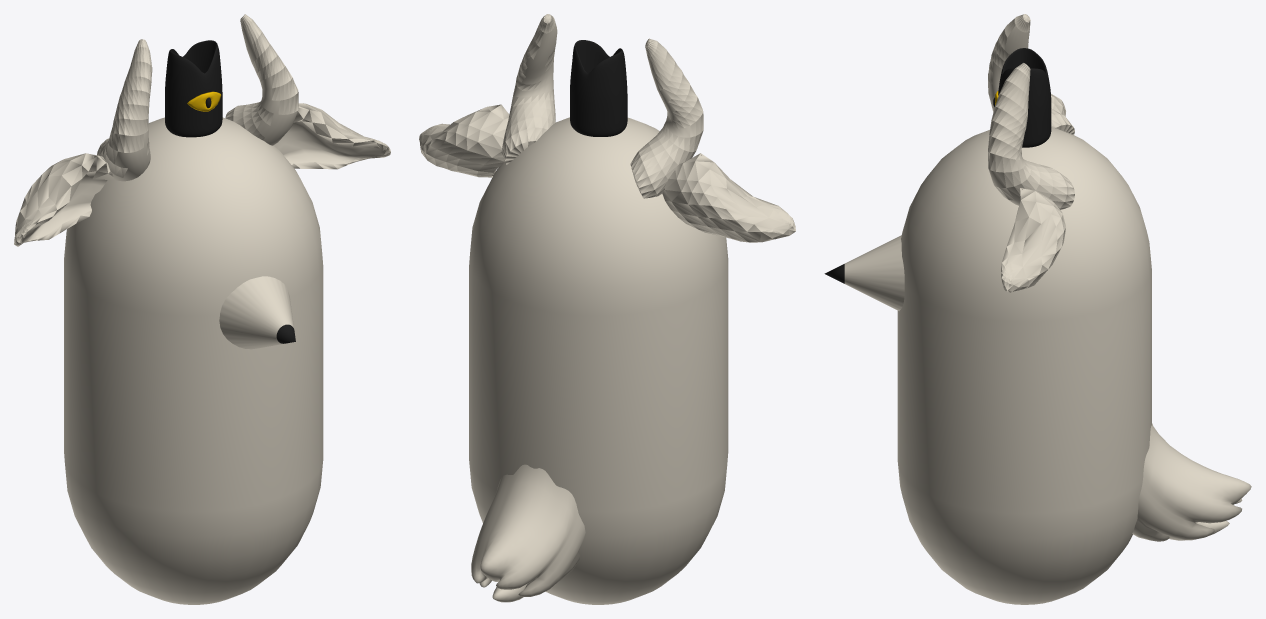
The model's file is NPC_Lamb.fbx.
The picture shows the model from 3 angles, left to right: view 1: azimuth 30°, elevation 25°; view 2: azimuth 150°, elevation 25°; view 3: azimuth 270°, elevation 25°; orthographic projection. The views are drawn at different scales.
Parts seen in each view (by area): view 1: Lamb; view 2: Lamb; view 3: Lamb.
Part boxes in pixels (<box>): Lamb: <box>14,14,390,604</box>; Lamb: <box>419,14,795,604</box>; Lamb: <box>824,14,1251,604</box>.
Bounding box in the file's own units: 1.68 × 2.41 × 1.68.
